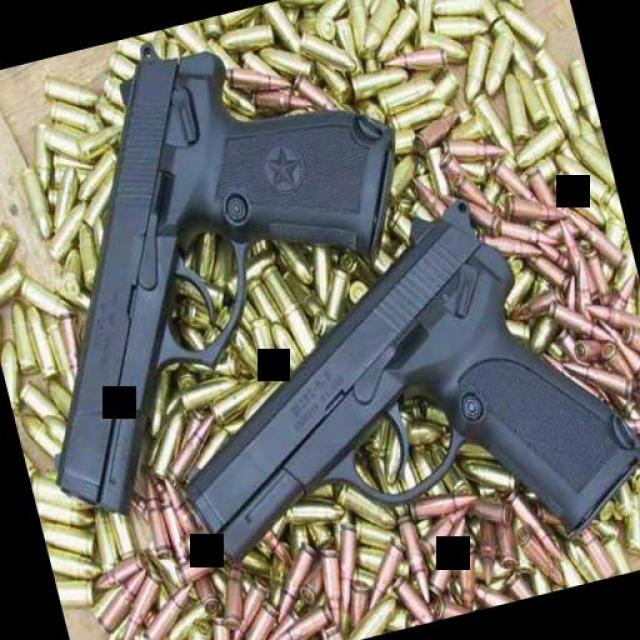gun: (0, 0, 470, 532), (130, 169, 640, 610)
